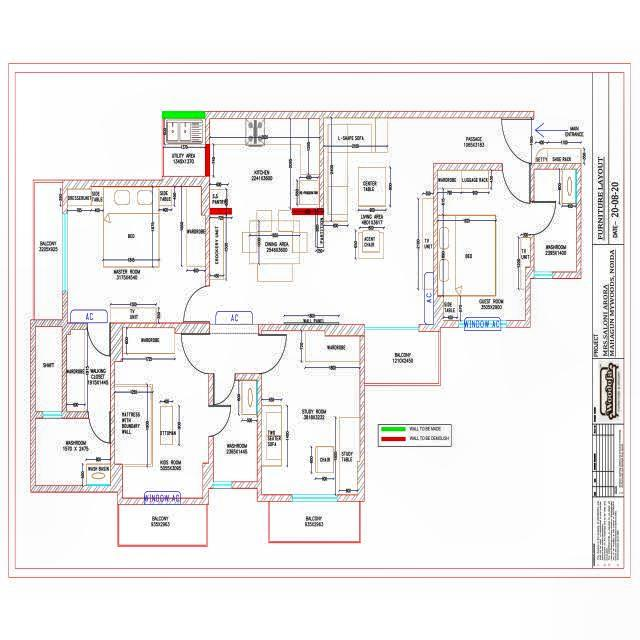room: (323, 118, 532, 323), (66, 186, 205, 322), (261, 330, 360, 495), (114, 328, 209, 497), (438, 170, 530, 321), (209, 215, 324, 322), (209, 118, 319, 208), (35, 418, 111, 486), (534, 169, 577, 273), (213, 380, 257, 481), (34, 182, 63, 320), (365, 332, 439, 383), (269, 502, 360, 543), (119, 505, 207, 544), (164, 118, 205, 176), (35, 327, 62, 412)
